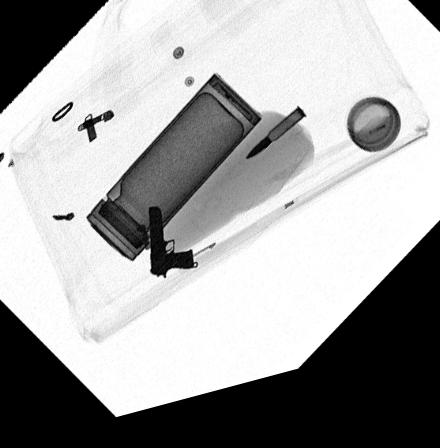Bullet: (245, 121, 306, 172)
Gun: (146, 215, 193, 285)
